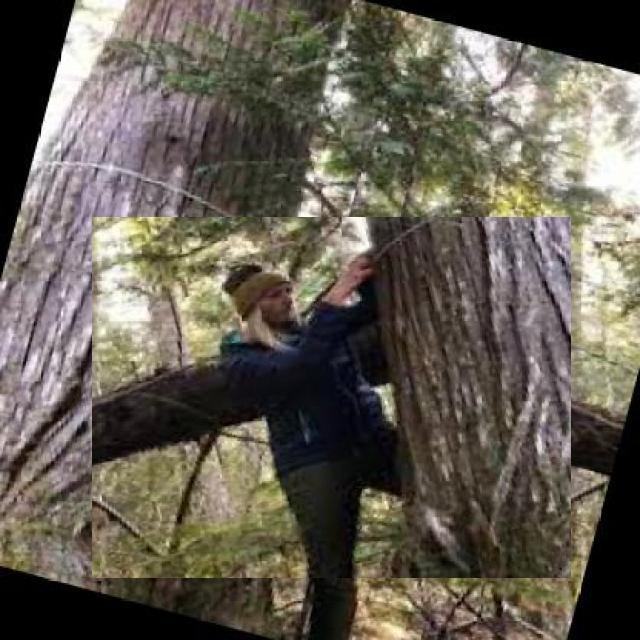poacher: (92, 217, 571, 578)
